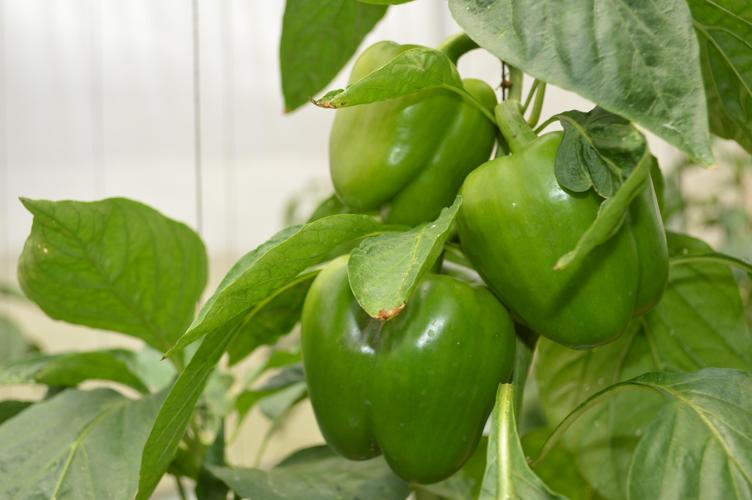BellPepper: (302, 256, 510, 480), (454, 135, 662, 346), (320, 38, 501, 222)
